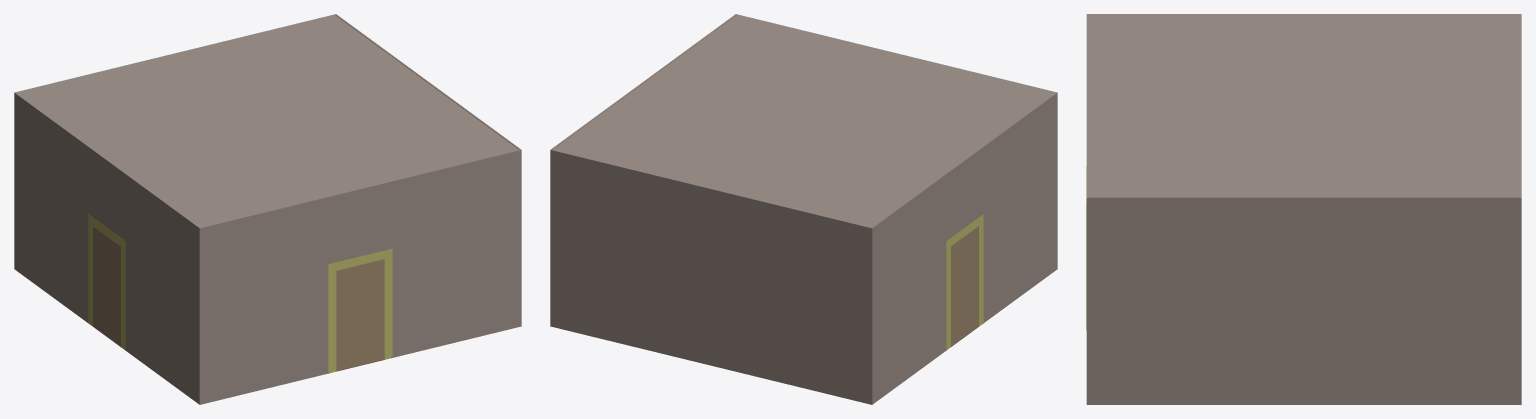
File: Room35_OrganRoom.fbx
3 views of the same model, side by side, from view 1: azimuth 30°, elevation 25°; view 2: azimuth 150°, elevation 25°; view 3: azimuth 270°, elevation 25° (orthographic). The views are drawn at different scales.
Parts seen in each view (by area): view 1: Roof, WallSlicedPosZ, WallSlicedPosX, DoorPosZ, DoorPosX, DoorFramePosZ, DoorFramePosX, WallNegX, WallNegZ; view 2: Roof, WallNegZ, WallSlicedPosX, DoorPosX, DoorFramePosX, WallNegX, WallSlicedPosZ; view 3: WallNegX, Roof, WallNegZ, WallSlicedPosZ, WallSlicedPosX.
Boxes of the visible parts, x1,y1,x2,y2 form: Roof: (16,15,518,227); WallSlicedPosZ: (198,149,520,404); WallSlicedPosX: (14,93,201,404); DoorPosZ: (336,259,384,371); DoorPosX: (93,226,120,346); DoorFramePosZ: (328,248,392,372); DoorFramePosX: (88,214,125,349); WallNegX: (335,14,521,326); WallNegZ: (14,14,335,269); Roof: (553,15,1055,227); WallNegZ: (550,149,873,404); WallSlicedPosX: (870,92,1057,404); DoorPosX: (951,226,978,346); DoorFramePosX: (946,214,983,349); WallNegX: (550,14,736,326); WallSlicedPosZ: (736,14,1057,269); WallNegX: (1086,197,1521,404); Roof: (1088,14,1519,197); WallNegZ: (1519,14,1521,197); WallSlicedPosZ: (1086,14,1088,197); WallSlicedPosX: (1087,14,1521,14).
Size of the model in its own units: 100 by 52.5 by 100.
